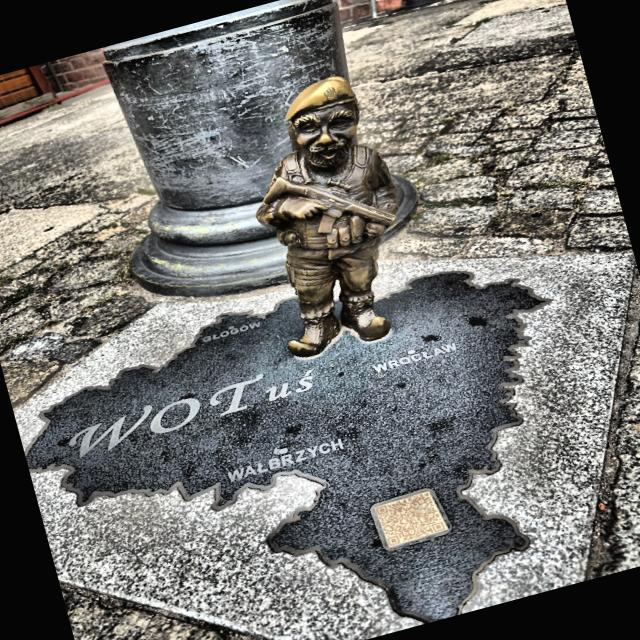WOTus: (256, 76, 399, 357)
